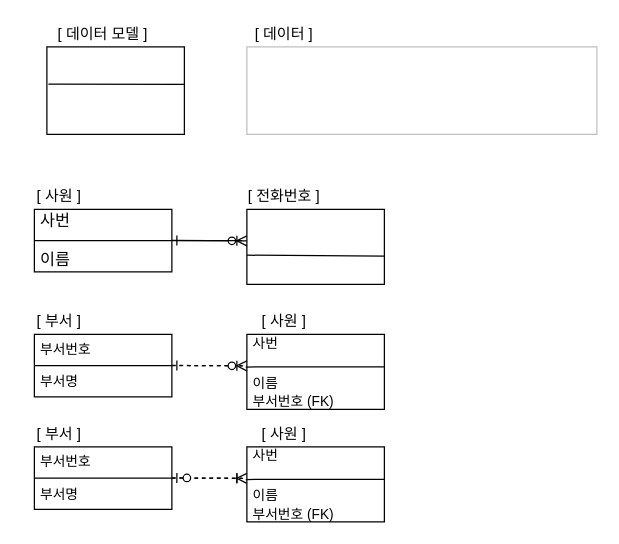
Some shapes in this 619 by 544 pixel diagram are drawn without their labels. The shapes that lost their labels are listed below. From the top down, each one's centre as x and y in pixels, then its label:
(x=115, y=90): 사번 이름 전화번호목록
(x=421, y=90): 사번 이름 전화번호목록 1 가나다 010-1234-5678 2 마바사 010-4567-8979, 010-2541-3652
(x=315, y=246): 사번 (FK) 순번 전화번호
